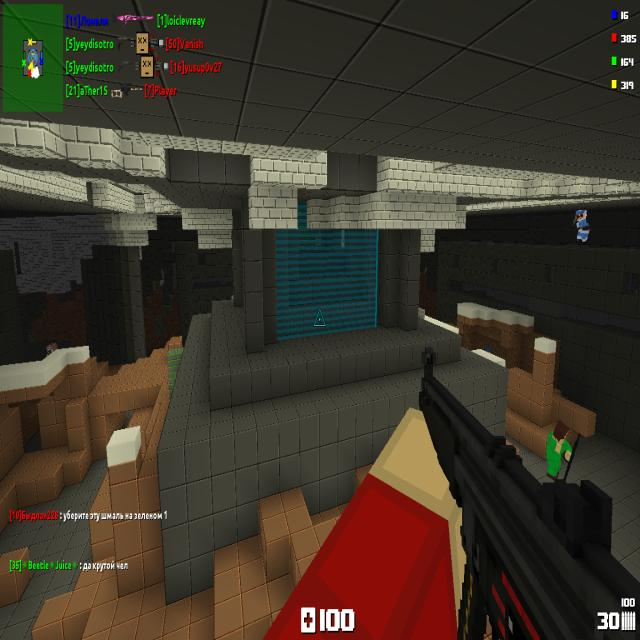enemy: (545, 418, 573, 481), (572, 208, 589, 246)
